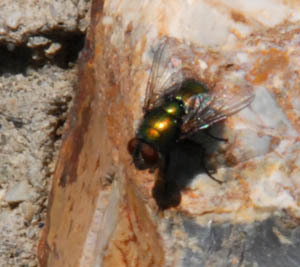green bottles fly: (114, 37, 263, 206)
